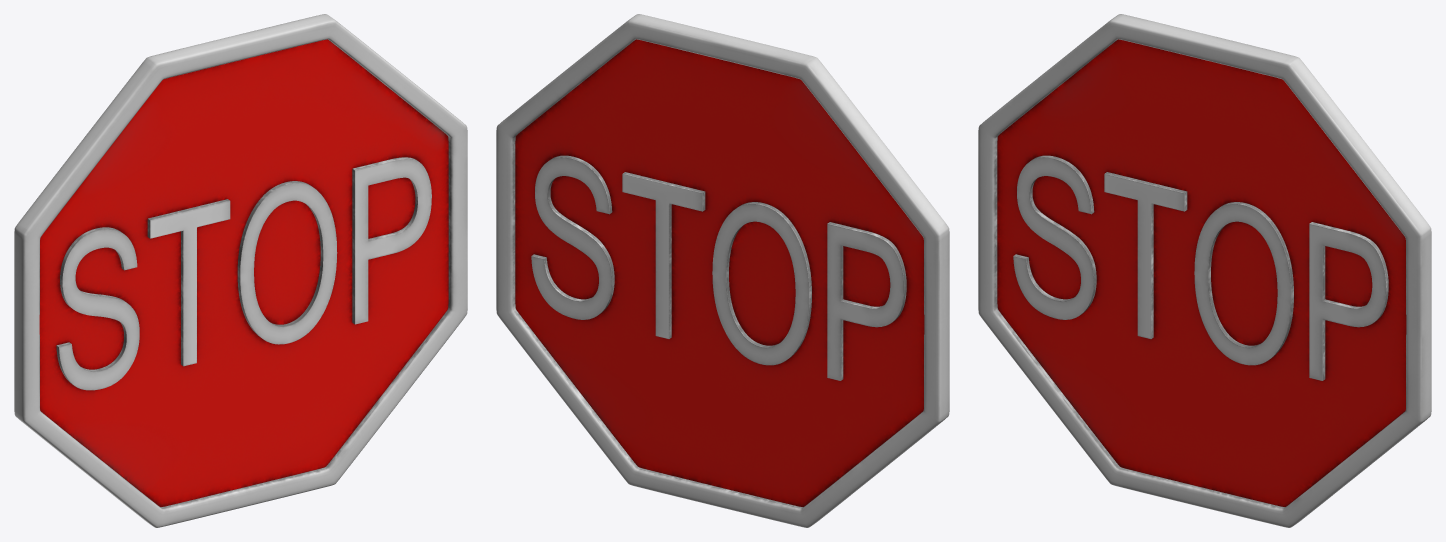
3 renders of one model, left to right at view 1: azimuth 30°, elevation 25°; view 2: azimuth 150°, elevation 25°; view 3: azimuth 330°, elevation 25°, orthographic.
Visible parts, largest first — view 1: Stop Sign; view 2: Stop Sign; view 3: Stop Sign.
Part boxes in pixels (x1=…): Stop Sign: x1=14, y1=14, x2=467, y2=527; Stop Sign: x1=496, y1=14, x2=949, y2=527; Stop Sign: x1=978, y1=14, x2=1431, y2=527.
Size of the model in its own units: 5.05 by 5.05 by 0.2188.
1 material, 1 textured.
